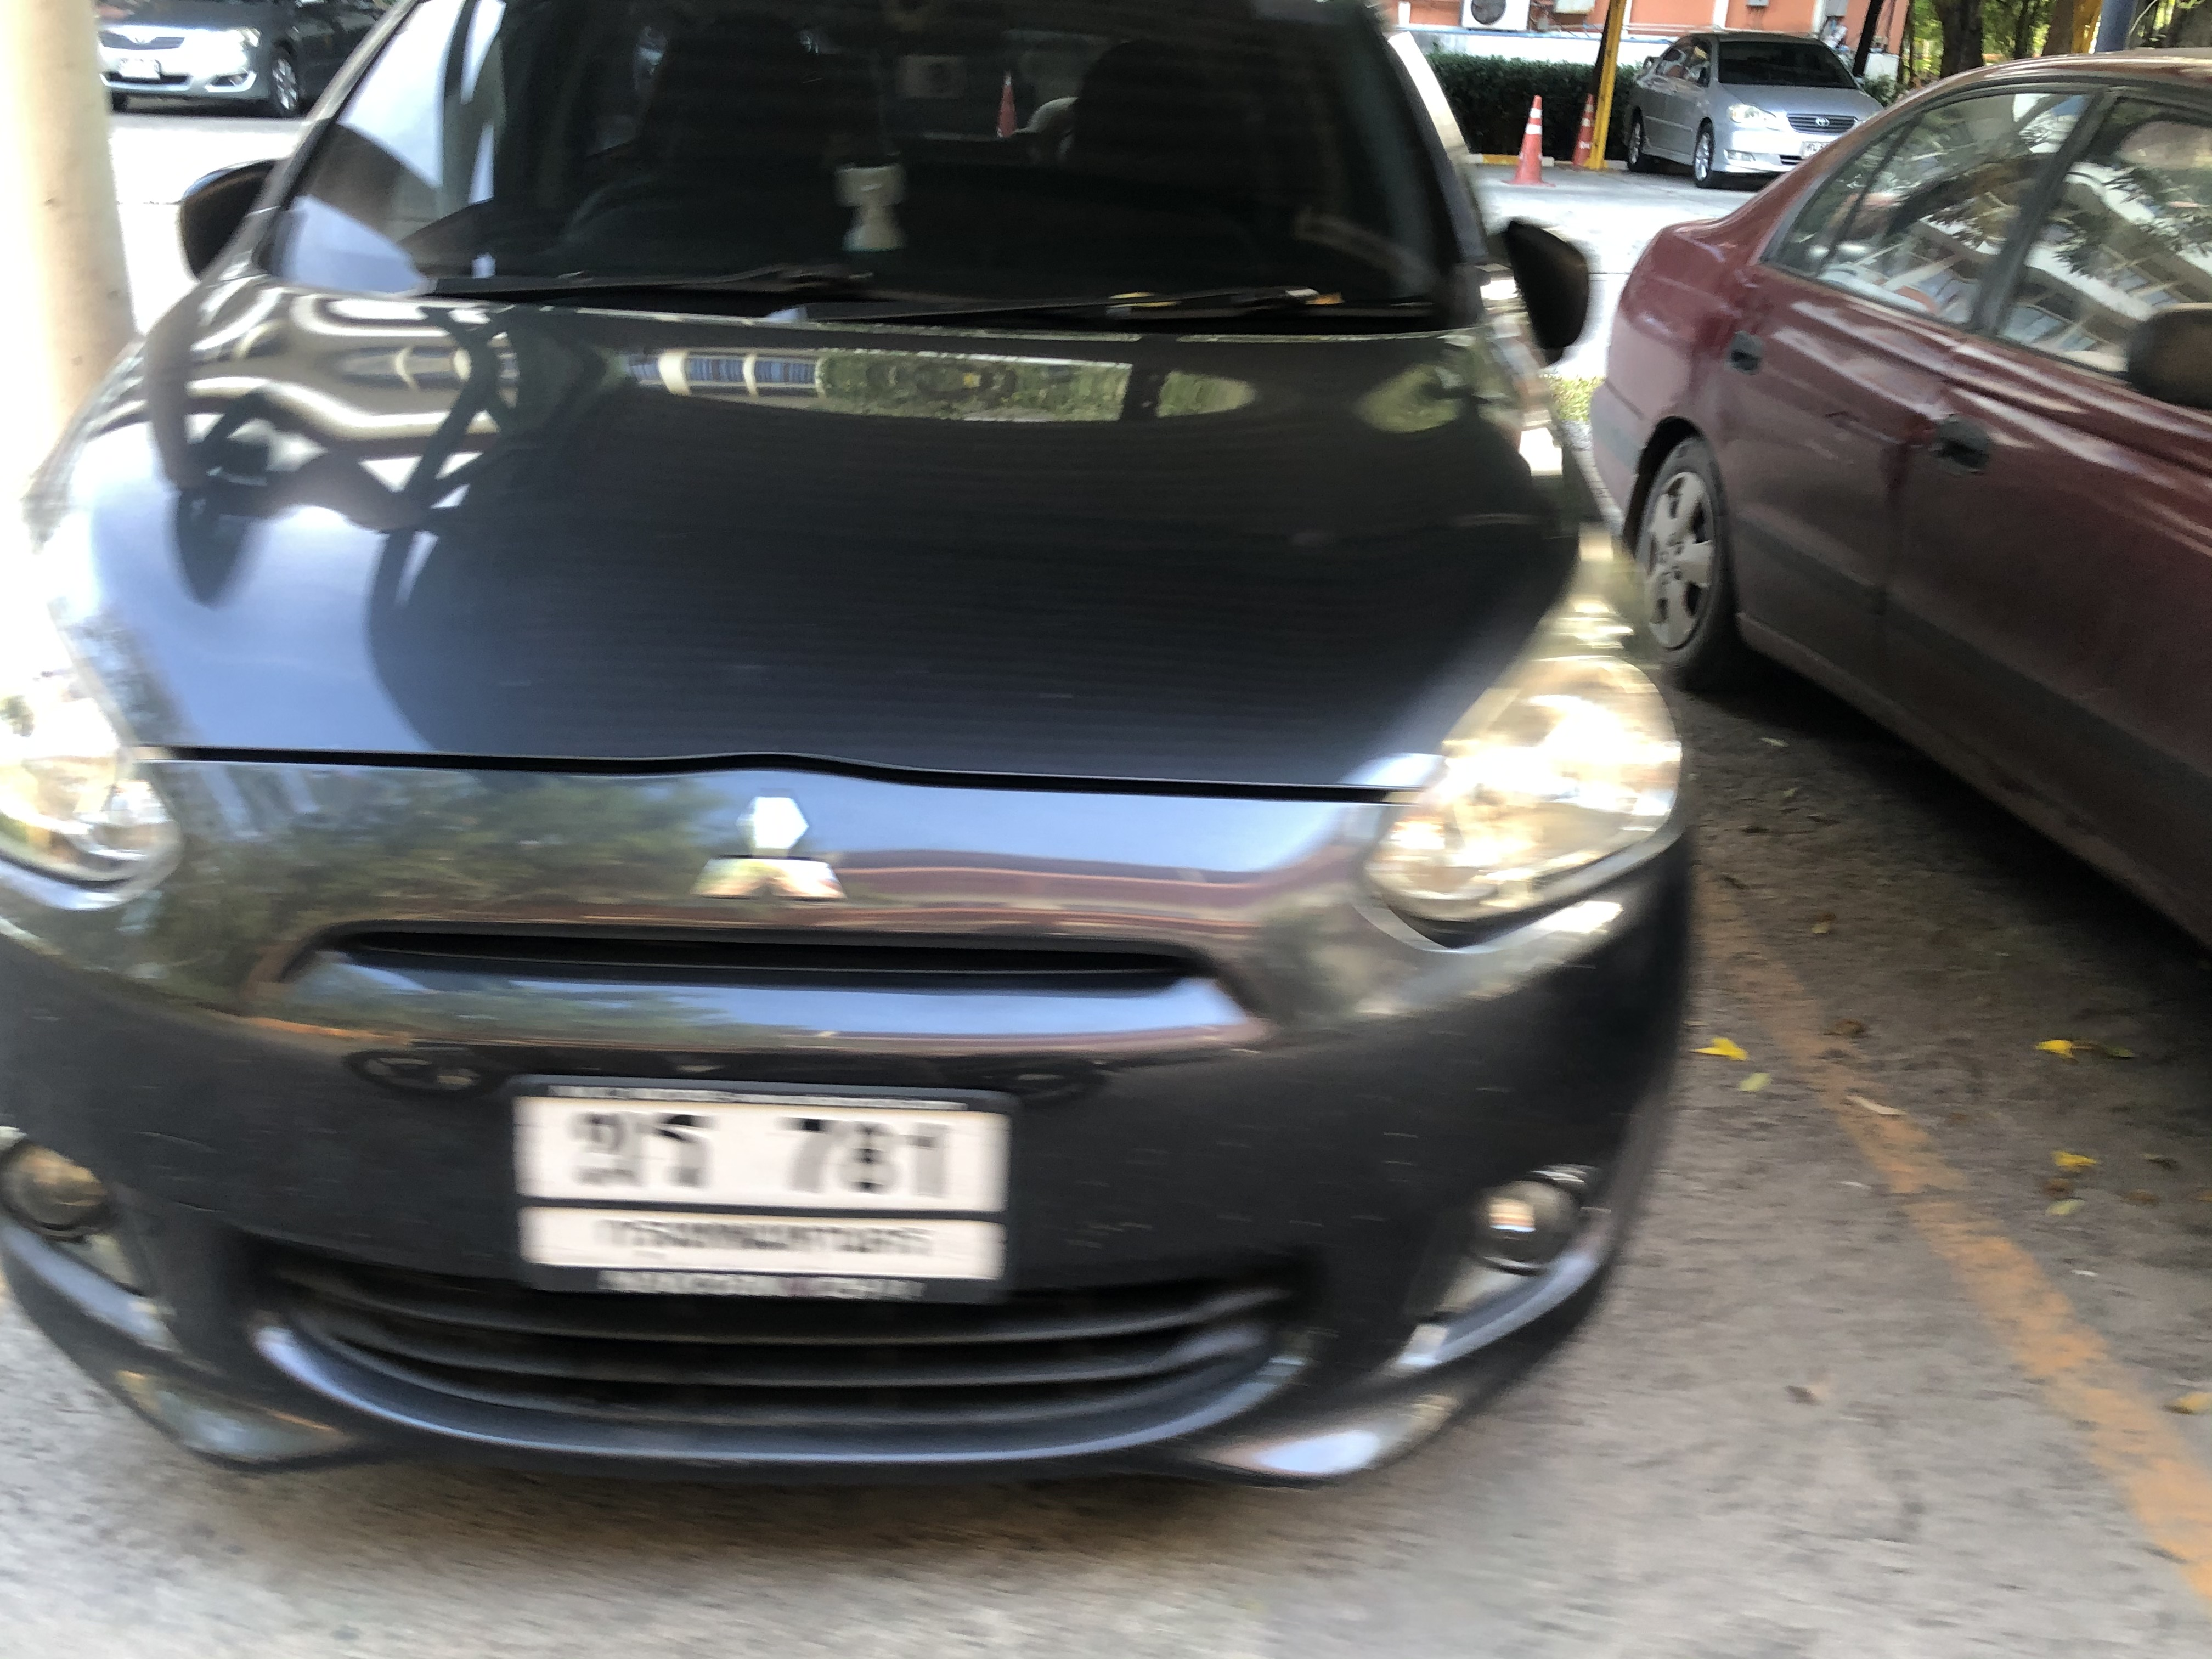in: (514, 1098, 1005, 1284)
out: (489, 1070, 1019, 1310)
